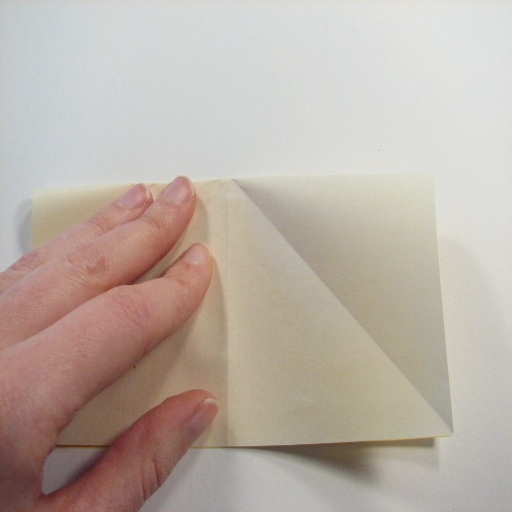hand: (1, 150, 228, 501)
